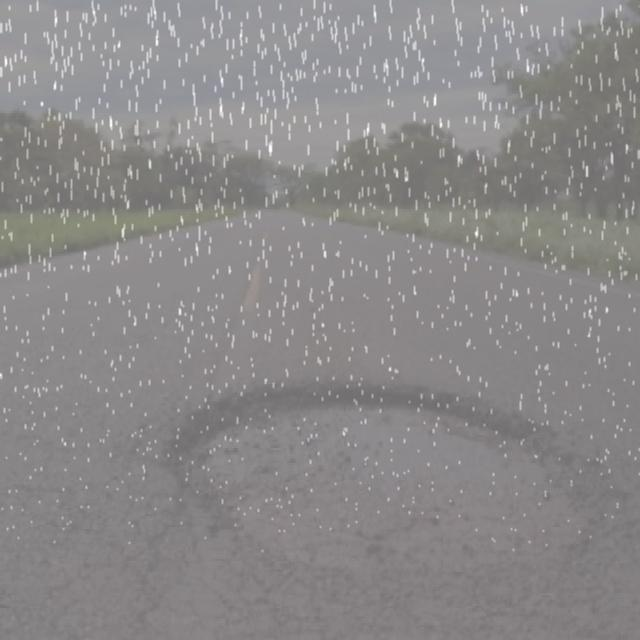Pothole: (156, 366, 640, 639)
